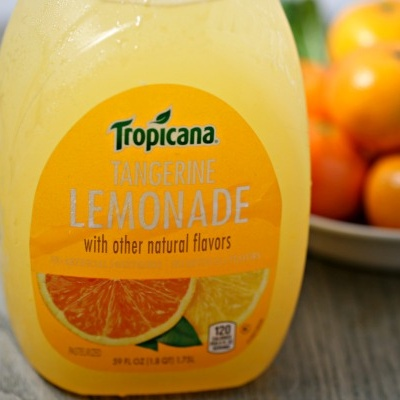mandarin: (36, 275, 197, 345), (320, 44, 400, 154), (304, 115, 364, 219), (326, 1, 400, 64), (358, 154, 400, 231)
